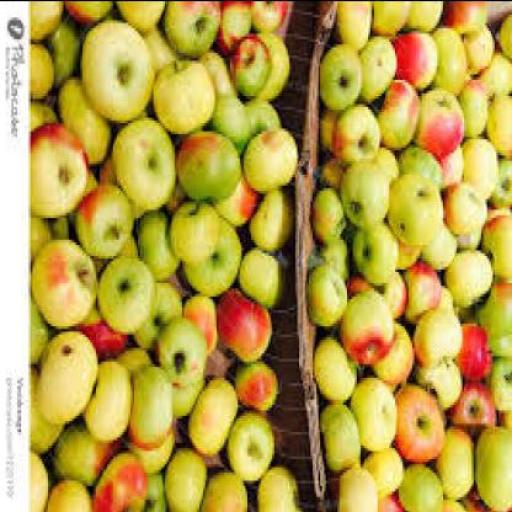biodegradable: (84, 16, 157, 119), (114, 114, 178, 206), (33, 239, 100, 325), (32, 119, 92, 212), (43, 325, 99, 420), (186, 214, 246, 293), (52, 418, 126, 482), (59, 73, 113, 157), (77, 181, 138, 255), (217, 282, 274, 360), (341, 284, 397, 363), (155, 58, 217, 128), (101, 254, 157, 328), (395, 382, 447, 461), (389, 168, 443, 244), (86, 353, 134, 436), (128, 363, 175, 447), (246, 124, 303, 190), (192, 371, 238, 450), (228, 406, 278, 474), (342, 154, 393, 220), (161, 314, 209, 384), (165, 1, 228, 54), (354, 374, 399, 447), (435, 422, 479, 496), (416, 87, 466, 152), (96, 447, 148, 509), (101, 146, 146, 216), (412, 304, 466, 362), (136, 279, 186, 341), (322, 395, 362, 471), (171, 196, 220, 257), (254, 27, 296, 97), (316, 328, 358, 398), (395, 24, 444, 84), (354, 220, 402, 281), (474, 278, 511, 356), (478, 420, 510, 510), (337, 101, 384, 162), (410, 358, 466, 409), (448, 247, 496, 306), (380, 76, 422, 143), (169, 439, 209, 509), (32, 360, 64, 446), (253, 182, 297, 244), (322, 38, 364, 102), (354, 268, 412, 314), (142, 206, 180, 276), (244, 244, 288, 304), (361, 32, 401, 98), (443, 176, 491, 230), (376, 320, 415, 384), (311, 263, 351, 322), (450, 379, 498, 428), (435, 25, 470, 92), (402, 460, 447, 510), (217, 171, 261, 222), (236, 30, 272, 92), (464, 133, 501, 192), (407, 257, 445, 314), (237, 358, 282, 406), (184, 287, 218, 349), (261, 460, 303, 510), (422, 219, 462, 271), (32, 208, 70, 262), (341, 458, 381, 509), (206, 462, 248, 510), (482, 209, 511, 277), (212, 95, 250, 146), (52, 11, 84, 70), (460, 320, 492, 379), (401, 138, 443, 182), (315, 182, 347, 238), (362, 448, 404, 490), (334, 1, 376, 43), (220, 1, 258, 47), (249, 94, 284, 141), (84, 318, 132, 352), (201, 48, 238, 92), (48, 474, 94, 509), (120, 1, 174, 30), (175, 374, 209, 417), (479, 47, 511, 92), (490, 347, 512, 409), (152, 24, 182, 68), (491, 89, 511, 155), (33, 444, 52, 510), (120, 342, 158, 374), (33, 296, 52, 360), (470, 22, 496, 68), (447, 1, 487, 30), (372, 1, 412, 30), (466, 78, 488, 130), (36, 38, 56, 95), (439, 144, 468, 182), (32, 1, 64, 35), (322, 103, 344, 152), (491, 154, 511, 207), (67, 0, 115, 22), (255, 1, 294, 27), (322, 233, 349, 268), (409, 1, 448, 25), (32, 95, 64, 124), (320, 152, 347, 186), (146, 469, 168, 509), (380, 485, 412, 509), (382, 139, 401, 179), (399, 238, 426, 265), (455, 224, 487, 246), (466, 485, 495, 509), (117, 228, 141, 254), (500, 9, 510, 60), (445, 496, 469, 510), (502, 406, 511, 424)
